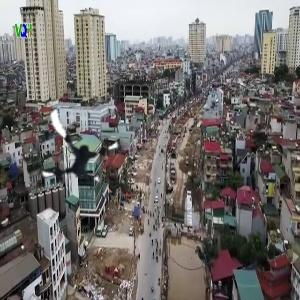drone: (31, 102, 125, 196)
